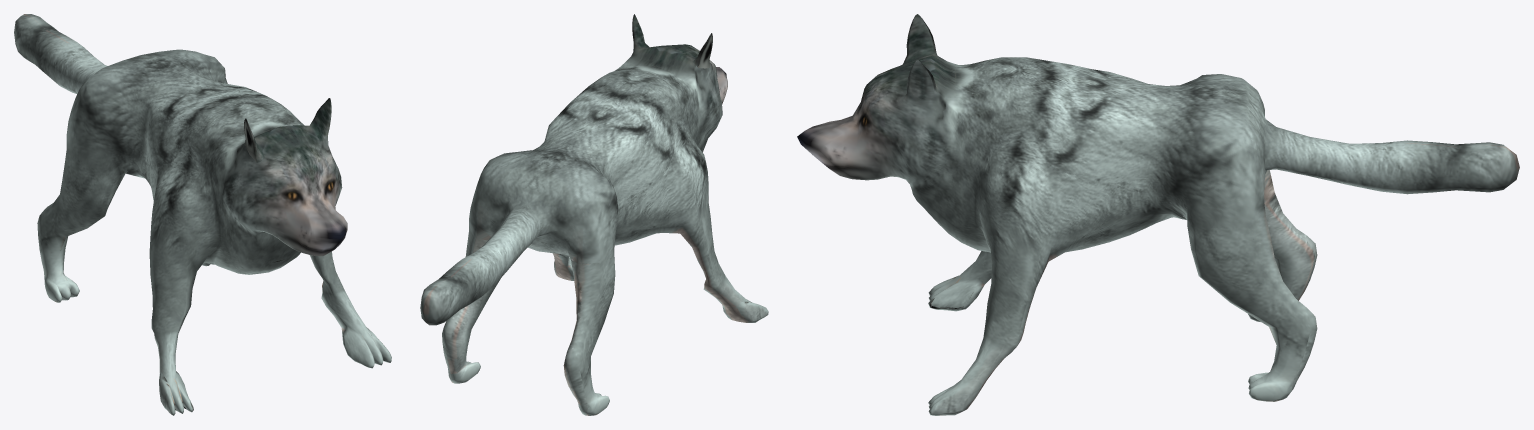
File: lobo.obj
The picture shows the model from 3 angles, left to right: view 1: azimuth 30°, elevation 25°; view 2: azimuth 150°, elevation 25°; view 3: azimuth 270°, elevation 25°; orthographic projection. The views are drawn at different scales.
Visible parts, largest first — view 1: Cube; view 2: Cube; view 3: Cube.
Boxes of the visible parts, x1,y1,x2,y2 form: Cube: (14,14,391,415); Cube: (420,14,768,415); Cube: (797,14,1519,415).
Size of the model in its own units: 66.57 by 83.23 by 169.
Materials: 1 (1 with a texture image).
